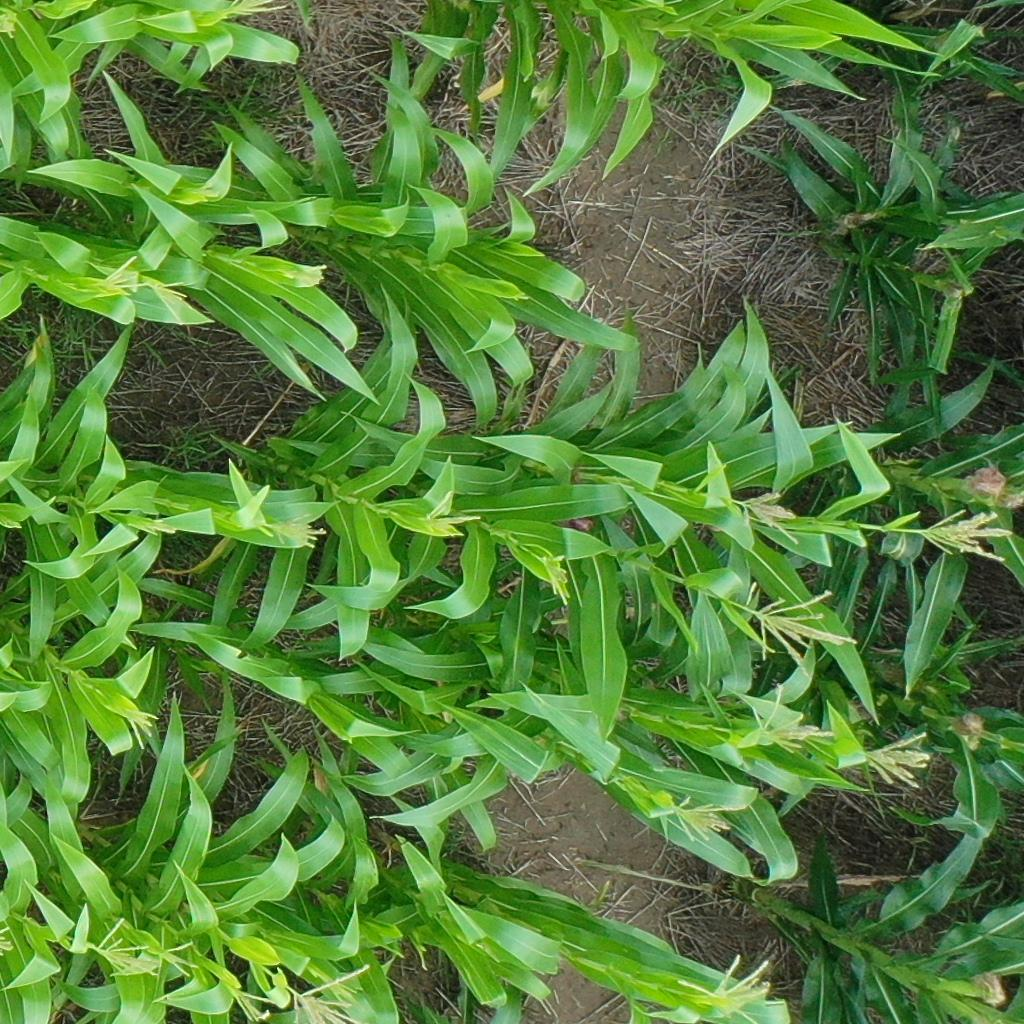Tassel: (741, 582, 858, 680), (676, 954, 770, 1024), (750, 683, 834, 754), (917, 506, 1013, 564), (284, 964, 370, 1024), (861, 730, 932, 791), (95, 919, 163, 979), (675, 796, 747, 845), (740, 492, 803, 546), (421, 493, 483, 539), (92, 255, 149, 298), (269, 514, 328, 550), (225, 984, 277, 1022), (152, 279, 188, 328), (542, 554, 574, 607), (126, 707, 160, 751), (164, 939, 202, 976), (282, 263, 329, 290), (224, 1, 288, 19), (135, 514, 176, 539), (1, 927, 17, 960), (194, 183, 219, 203), (1, 11, 18, 39), (1, 512, 23, 531), (514, 288, 530, 305)
